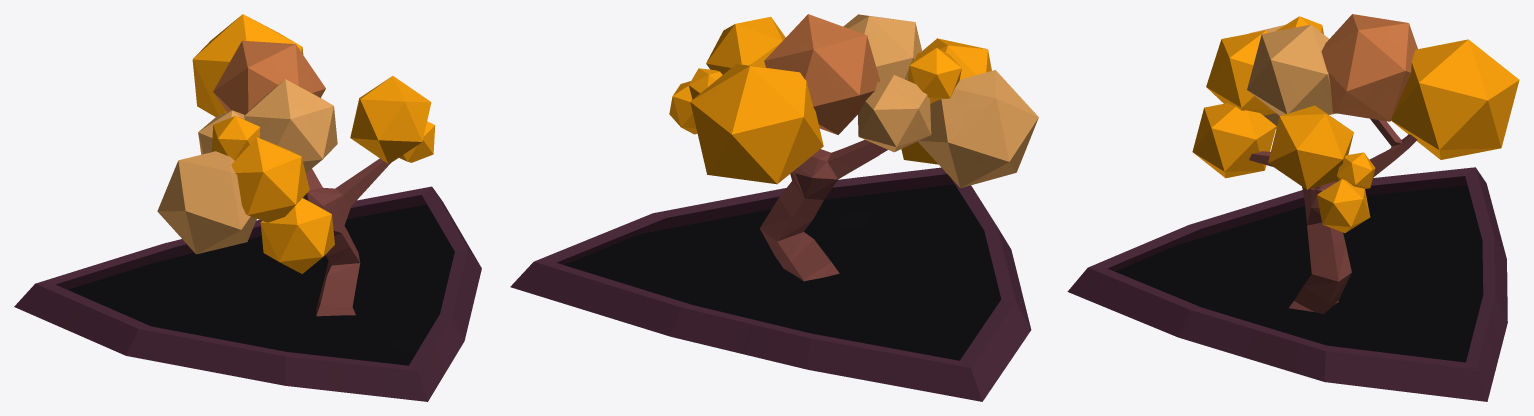
Rendered from herfstboom.glb.
The picture shows the model from 3 angles, left to right: view 1: azimuth 30°, elevation 25°; view 2: azimuth 150°, elevation 25°; view 3: azimuth 270°, elevation 25°; orthographic projection. The views are drawn at different scales.
Visible parts, largest first — view 1: garagegat, Icosphere.017; view 2: garagegat, Icosphere.017; view 3: garagegat, Icosphere.017.
Part boxes in pixels (left/top/right/bottom): garagegat: left=14, top=186, right=481, bottom=401; Icosphere.017: left=157, top=14, right=435, bottom=316; garagegat: left=510, top=167, right=1031, bottom=401; Icosphere.017: left=669, top=14, right=1038, bottom=281; garagegat: left=1067, top=167, right=1507, bottom=401; Icosphere.017: left=1192, top=14, right=1519, bottom=314.
Bounding box in the file's own units: 16.7 × 10.55 × 14.6.
1 material, 1 textured.
